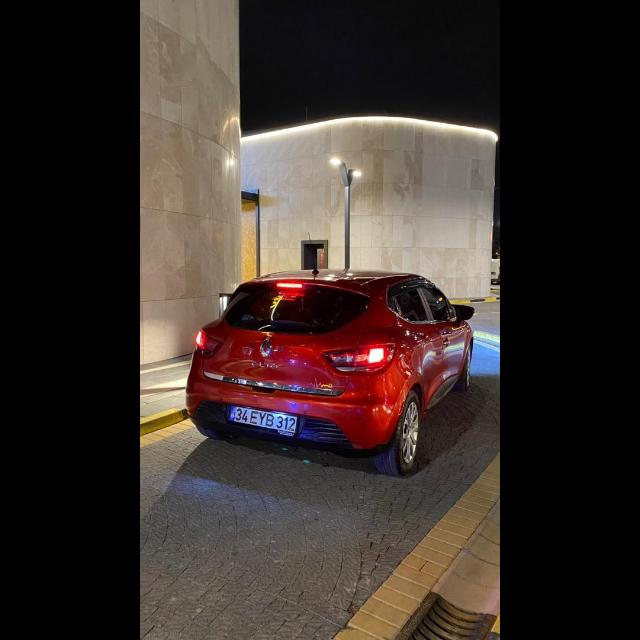Plaka: (228, 407, 296, 435)
